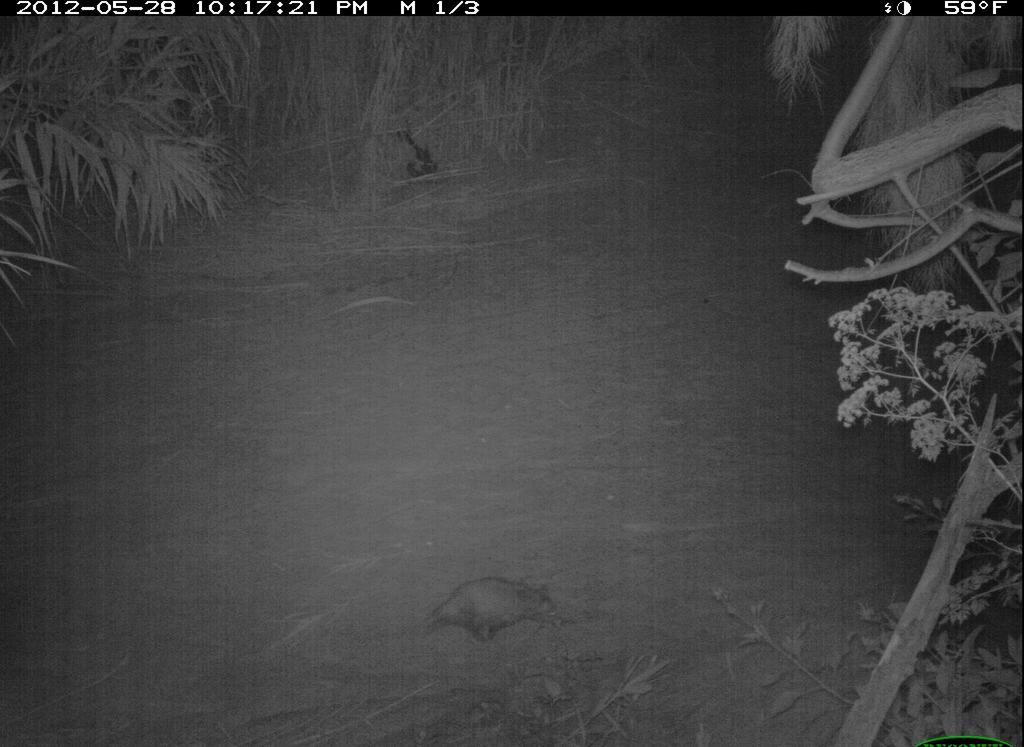opossum: (401, 565, 582, 656)
